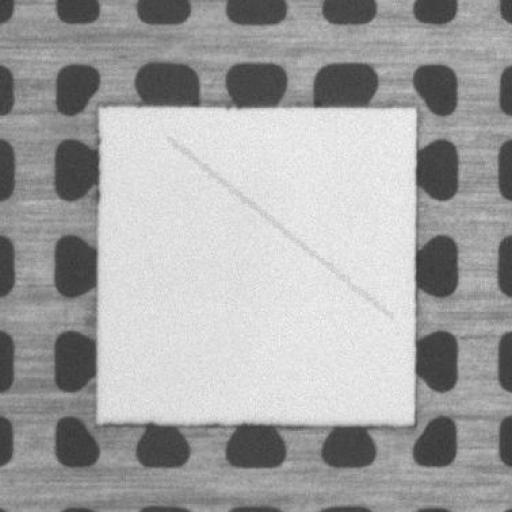DIE_CRACK: (168, 138, 390, 317)
